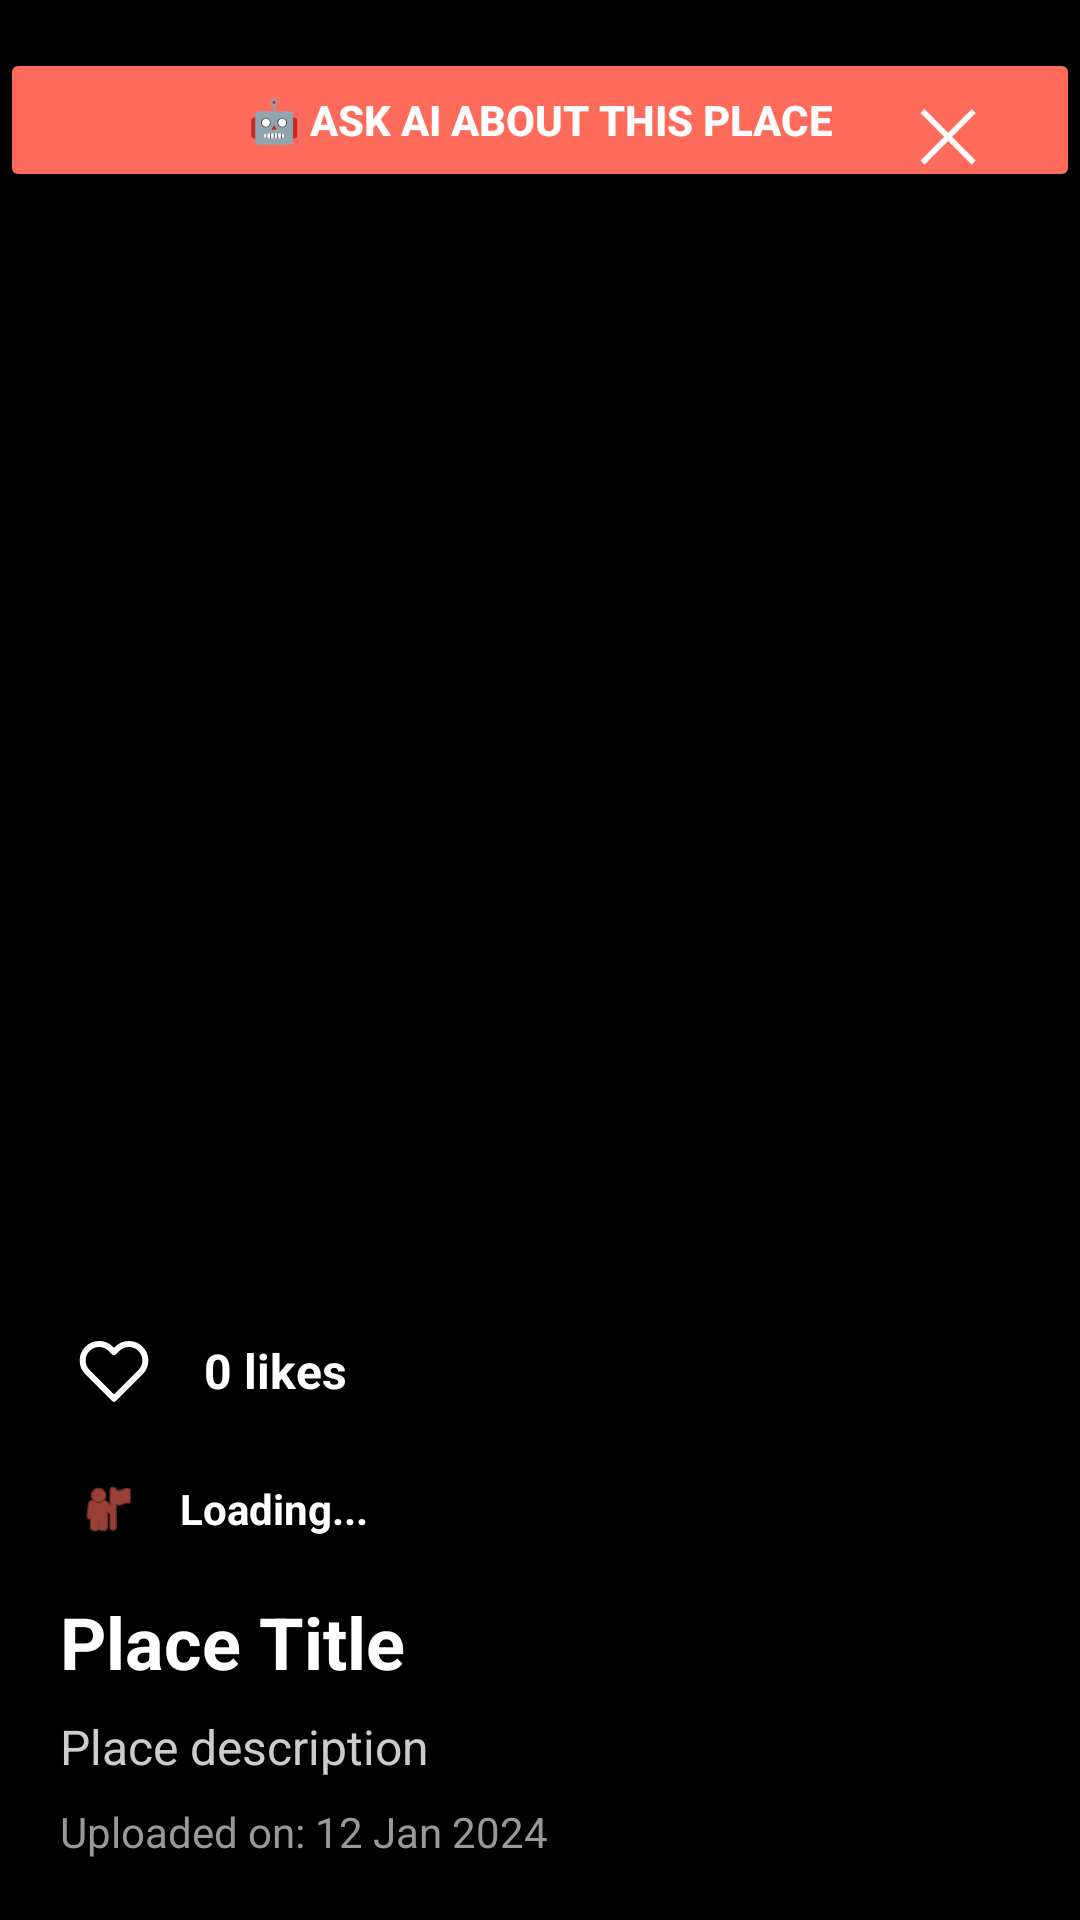

Named icons in this screenshot (1080px x 1920px) and their bounding boxes, (x1, y1, x2, y2):
myplaces: (86, 1487, 131, 1531)
